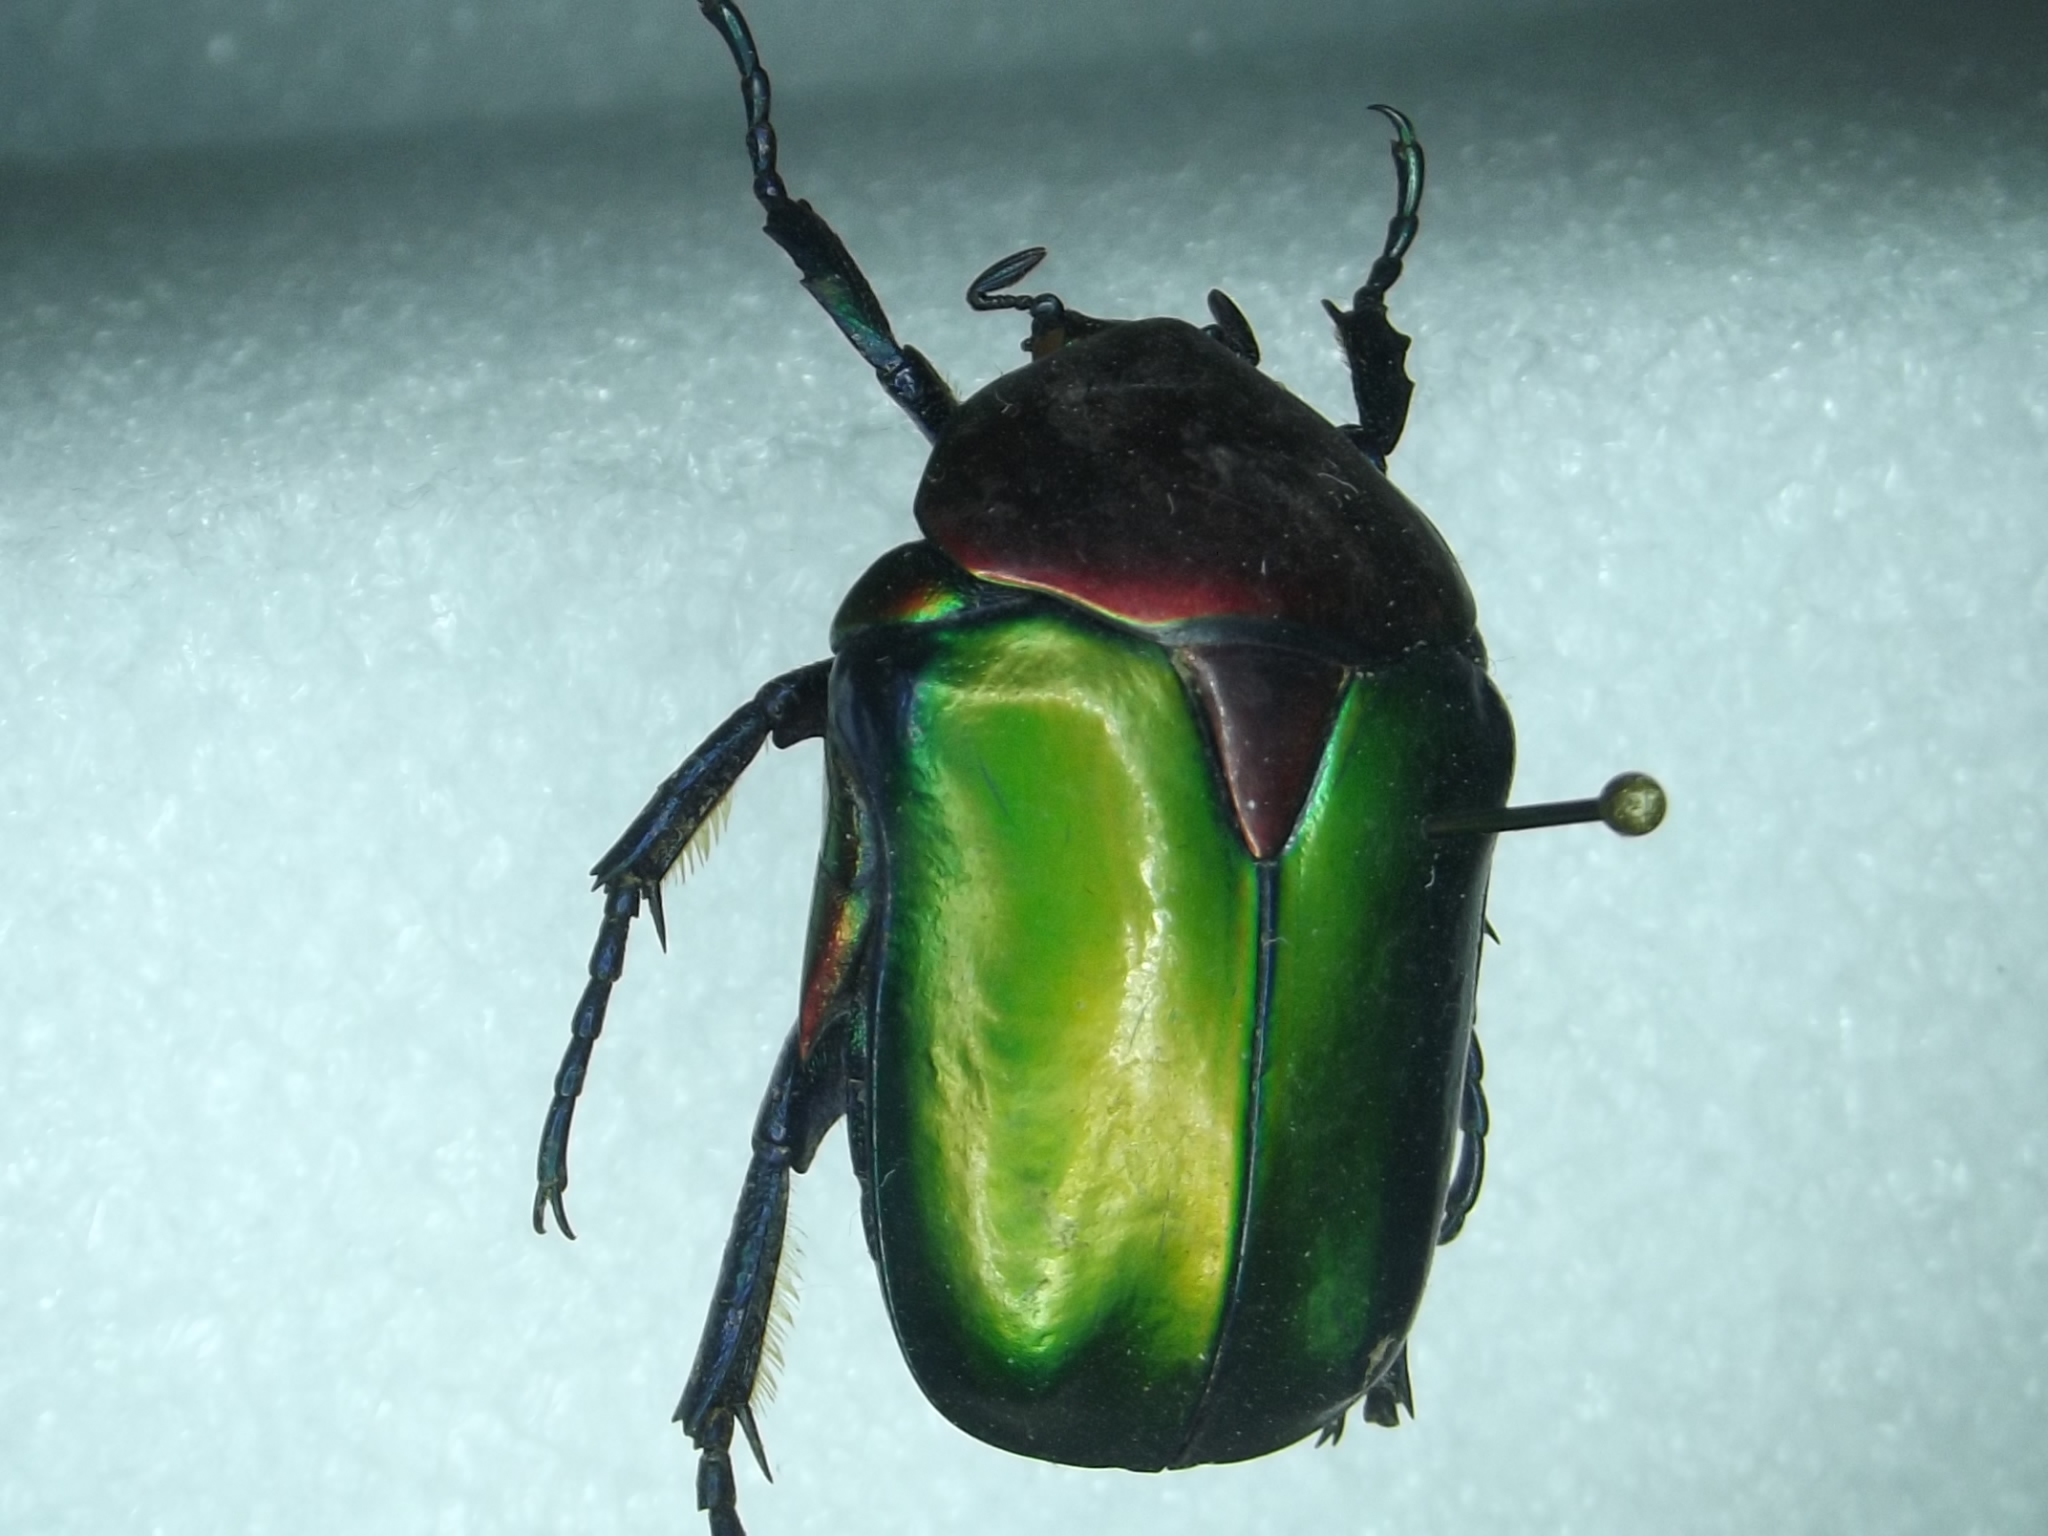Protaetia_speciosa_jousseliniw: (524, 2, 1522, 1536)
